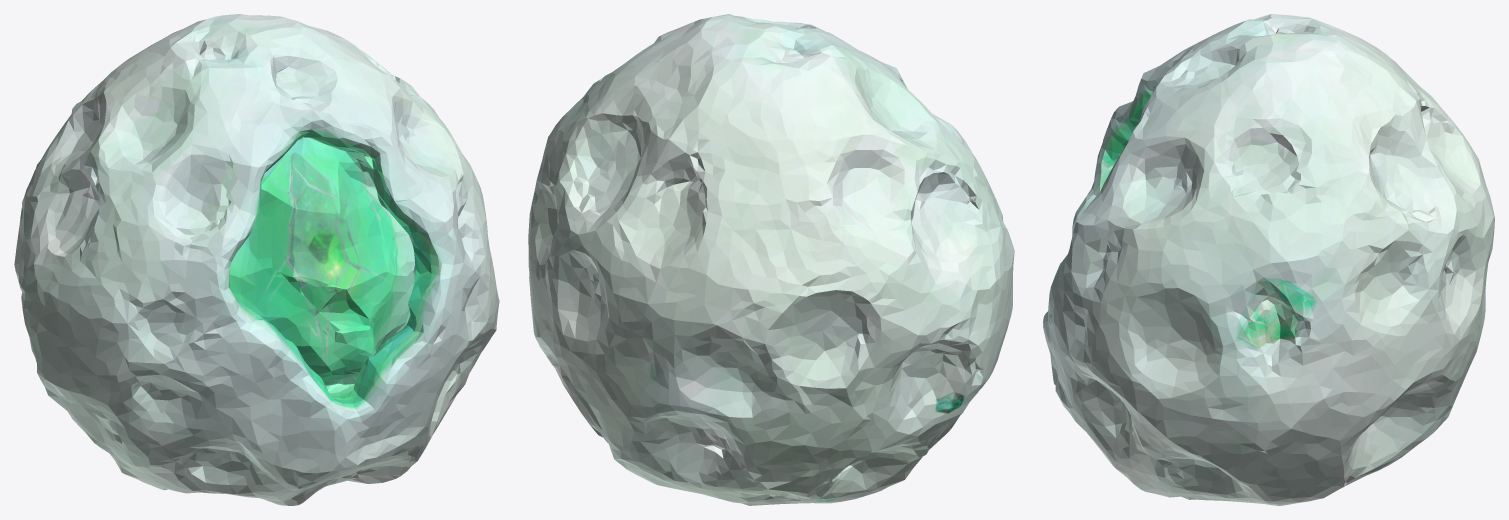
File: SpaceHeal.fbx
3 renders of one model, left to right at view 1: azimuth 30°, elevation 25°; view 2: azimuth 150°, elevation 25°; view 3: azimuth 270°, elevation 25°, orthographic. The views are drawn at different scales.
Parts seen in each view (by area): view 1: temp; view 2: temp; view 3: temp.
Boxes of the visible parts, <box> form: temp: <box>14,14,499,505</box>; temp: <box>528,14,1014,505</box>; temp: <box>1043,14,1494,505</box>.
Bounding box in the file's own units: 200 × 194 × 185.
Materials: 1 (1 with a texture image).
